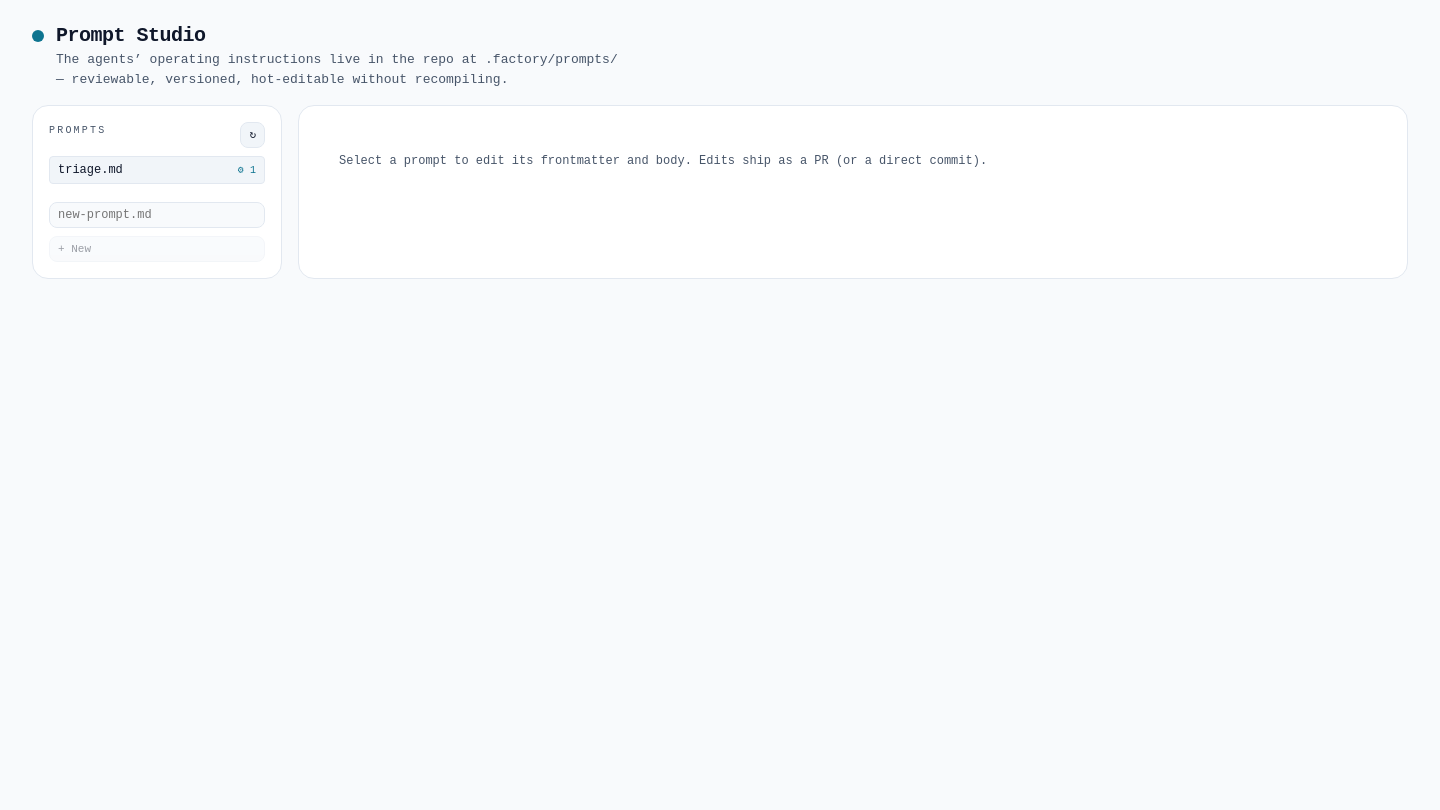
Test: PromptStudio › opening a file shows the editor; a secret in the body flags a lint error and disables Save
Click the text "triage.md". click: (90, 170)
box: [58, 163, 123, 177]
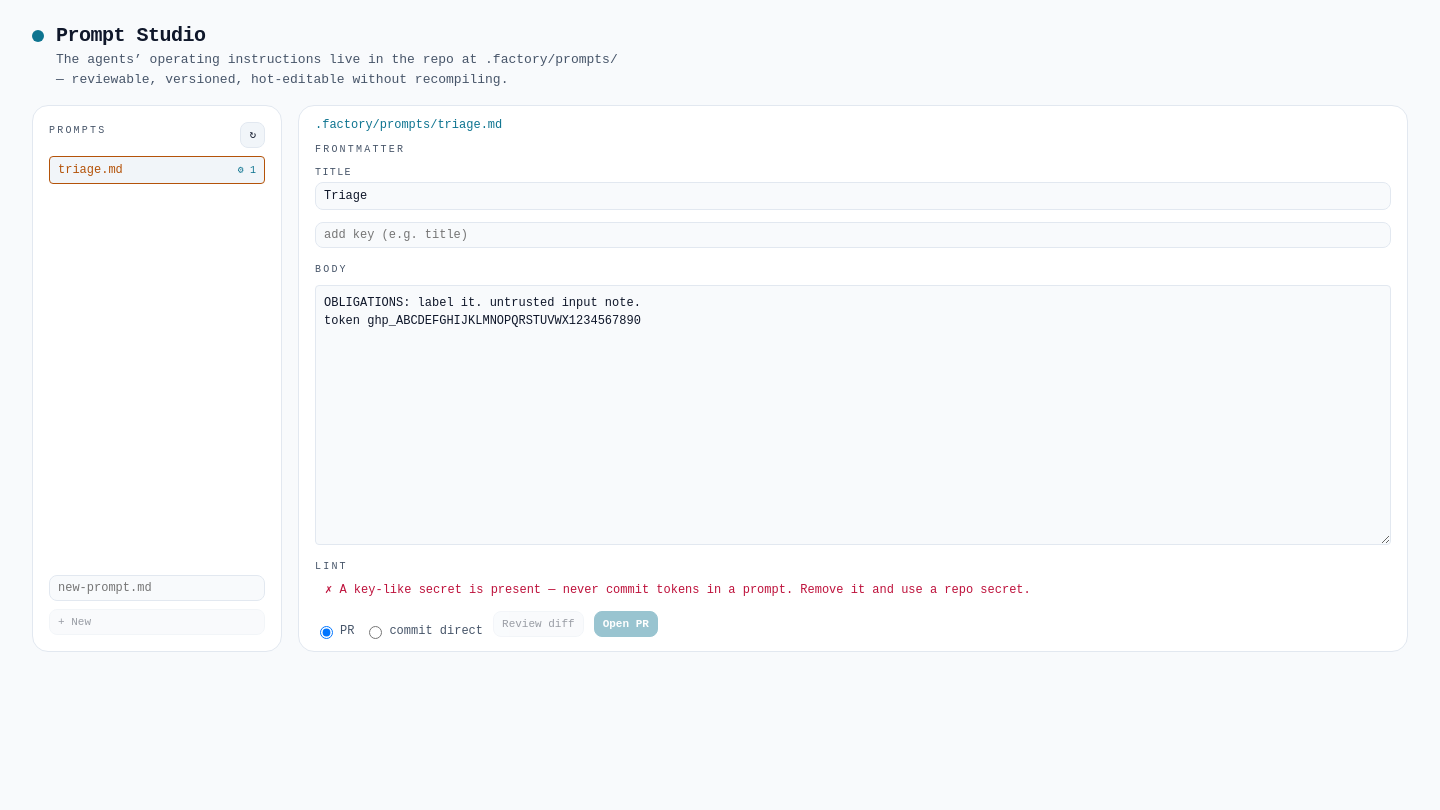
Expected: the text ".factory/prompts/triage.md" is shown, [315, 118, 502, 132]
Expected: the text "key-like secret" is shown, [339, 583, 1031, 597]
Expected: the button "Open PR" is disabled, [594, 611, 658, 637]
